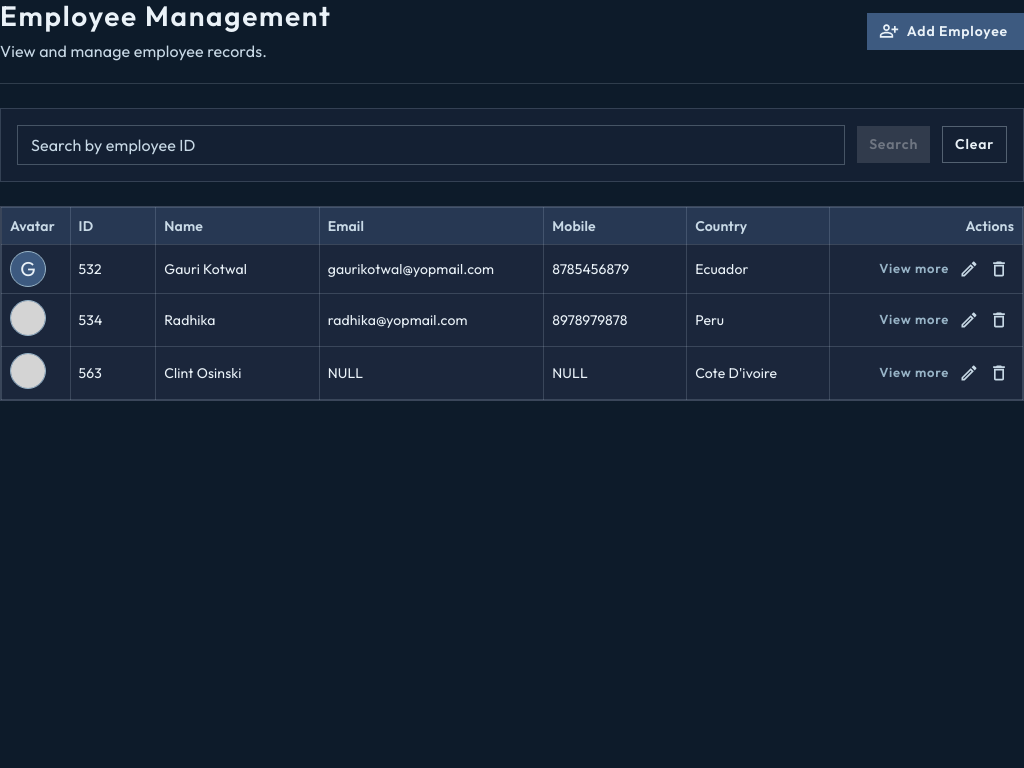
Test: EmployeeManagementContainer API errors › shows an image-size error when an update payload is too large
Click the button named "edit gauri kotwal": (969, 269) [954,254,984,284]
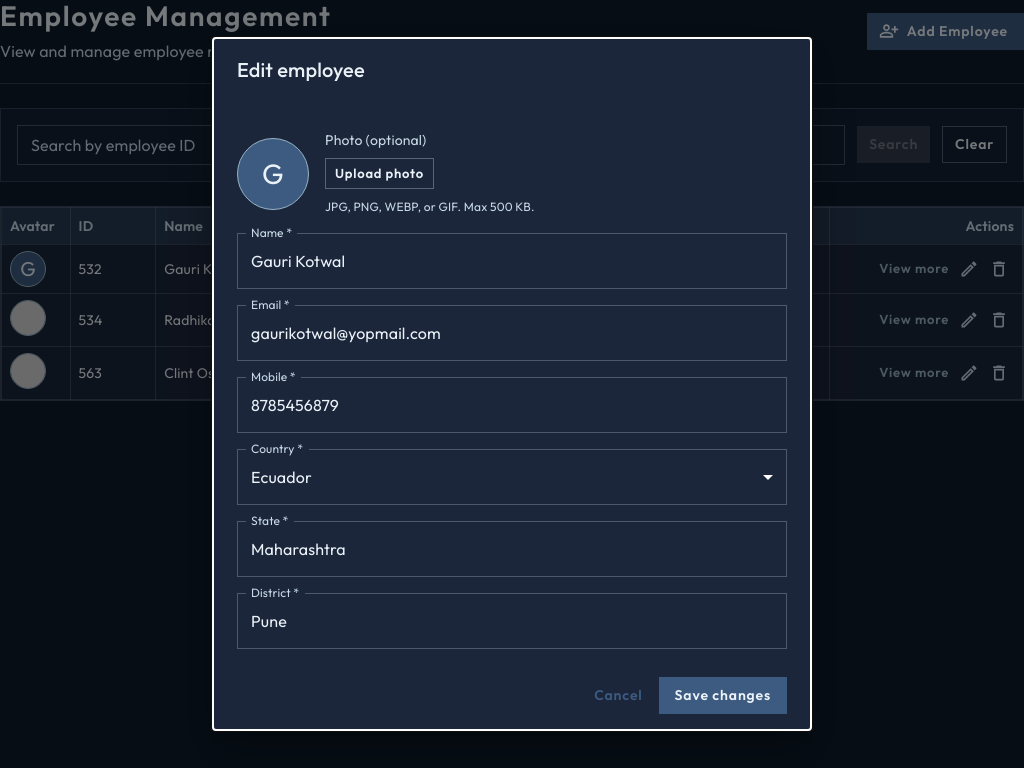
Click the button "Save changes": (723, 695) [659,677,787,714]
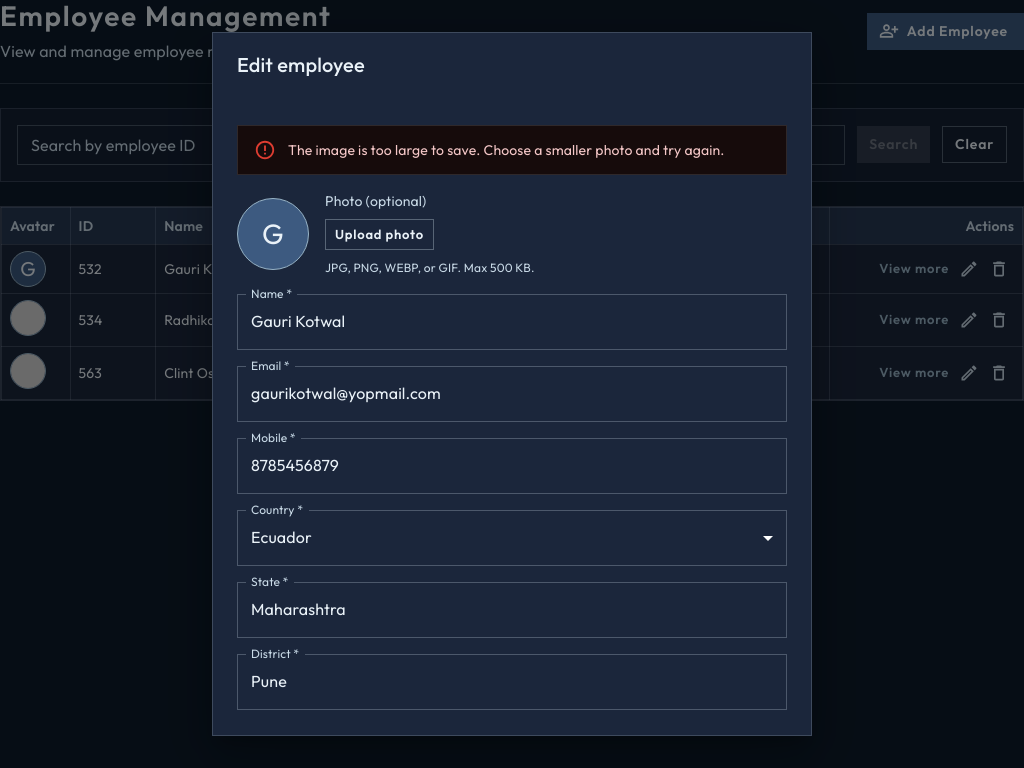
Result: the heading "Edit employee" is shown at [237,52,365,77]
Result: the text "The image is too large to save" is shown at [288,141,725,159]
